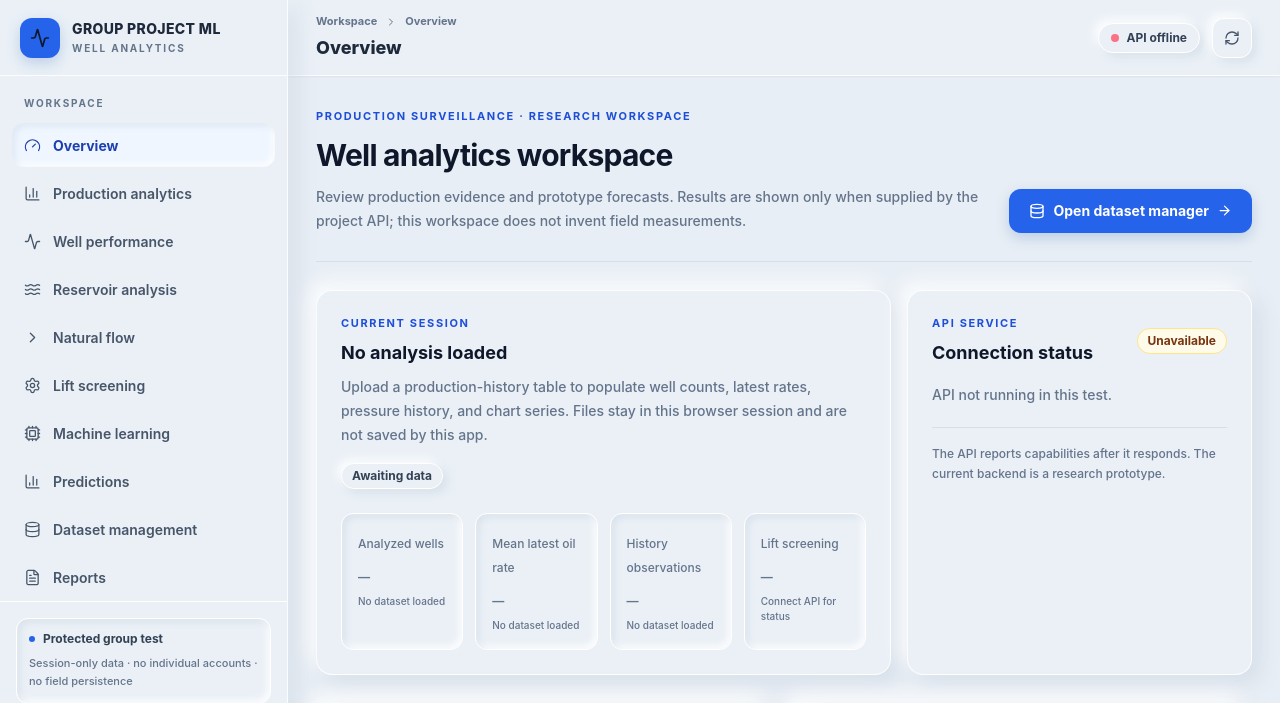
Test: application shell › opens the preliminary artificial-lift screen and keeps the final-design boundary visible
Click the link "Lift screening". click: coordinates (85, 385)
box: [24, 376, 145, 394]
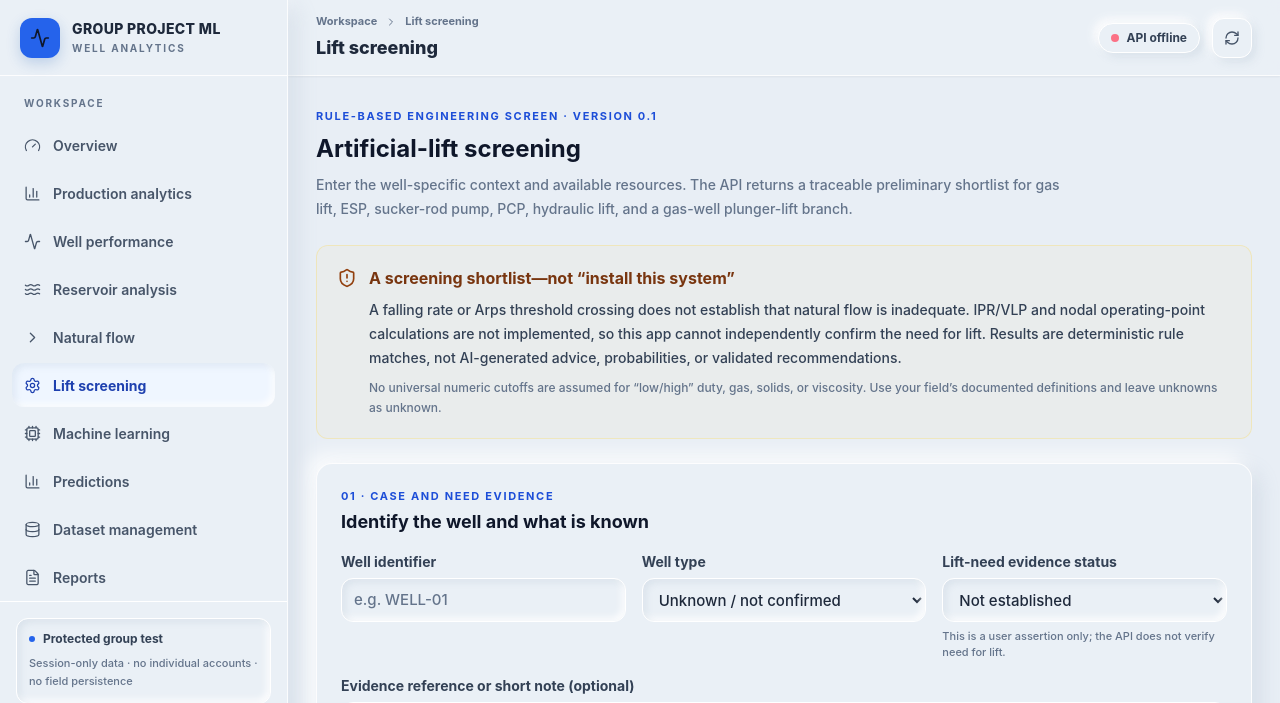
Expected: the heading "Artificial-lift screening" is shown, [316, 134, 581, 162]
Expected: the text "deterministic rule matches, not AI-generated advice" is shown, [369, 300, 1205, 366]
